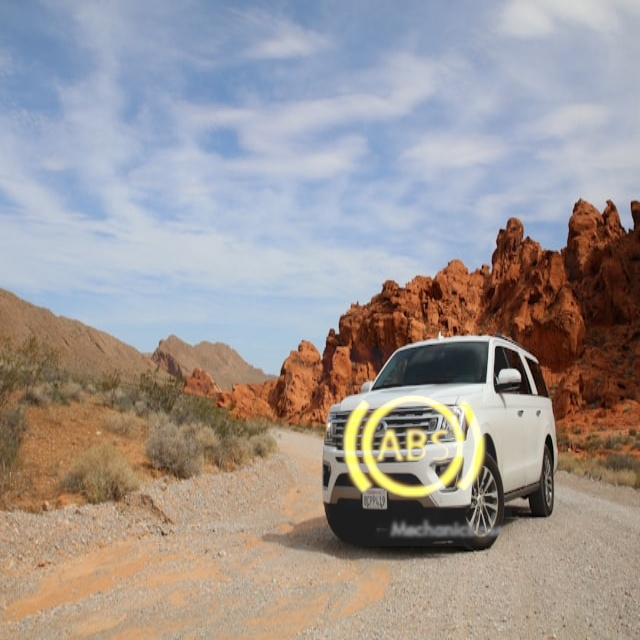symbol: (314, 348, 512, 546)
